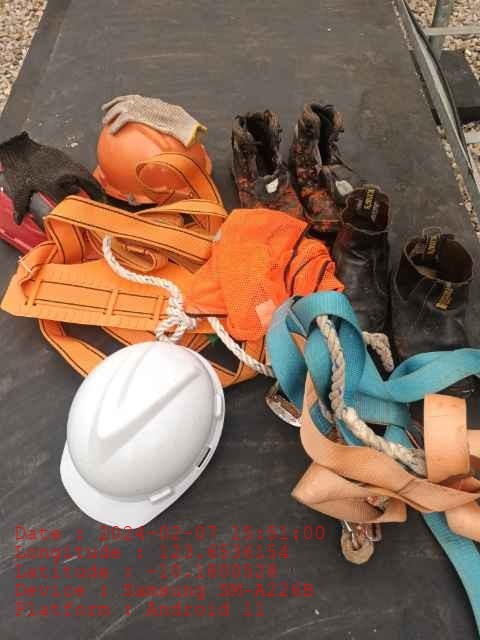HELM: (60, 343, 225, 528)
